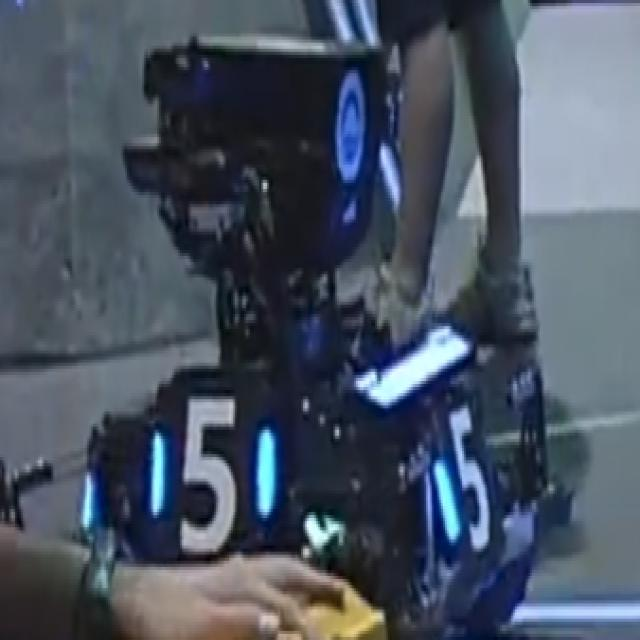B5: (140, 396, 290, 555)
